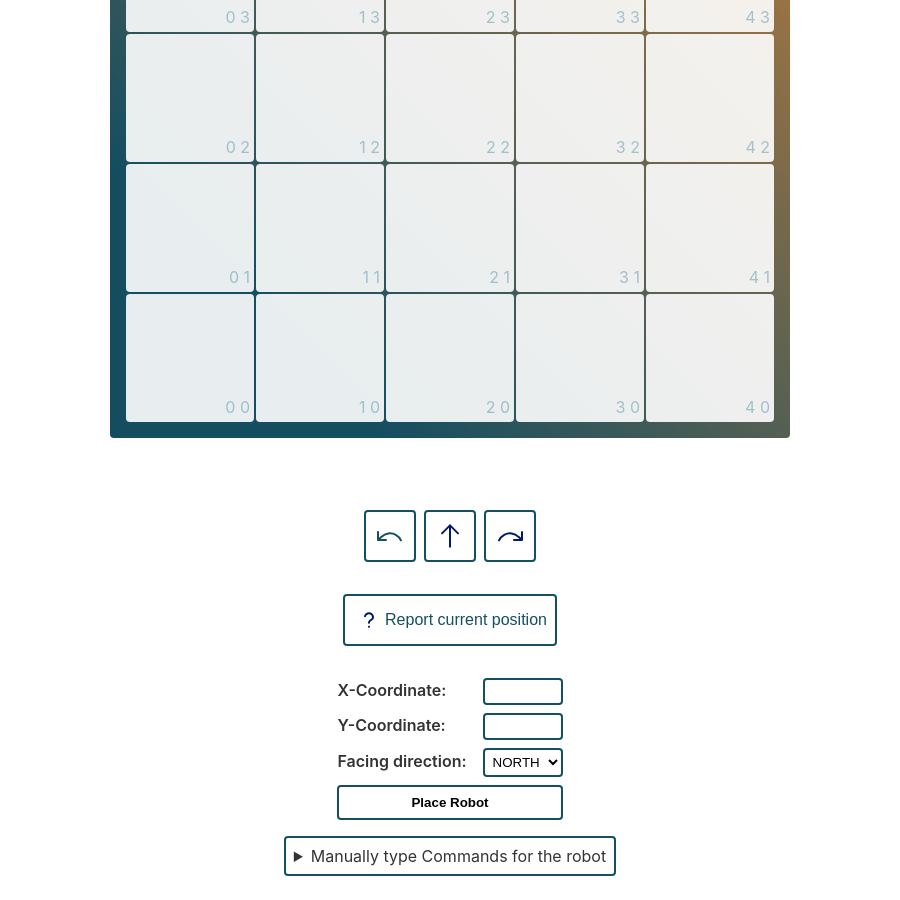
Test: Index page e2e tests › using controls › placing the robot › shows an error if xCoordinate is not filled
The width and height of the screenshot is (900, 900).
(page scrolled)
Click the button with test id "robotplaceform-submit".
click(451, 803)  # box x1=338 y1=785 x2=563 y2=820
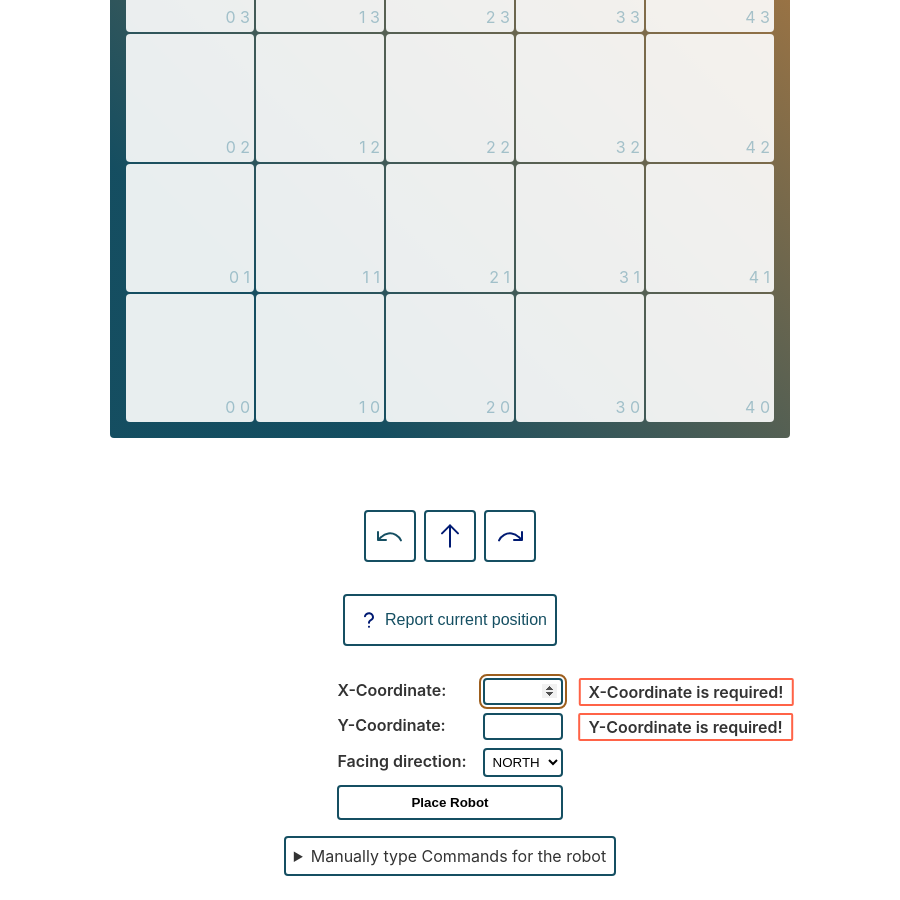
Now the text "X-Coordinate is required!" is shown, box x1=338 y1=678 x2=563 y2=705
